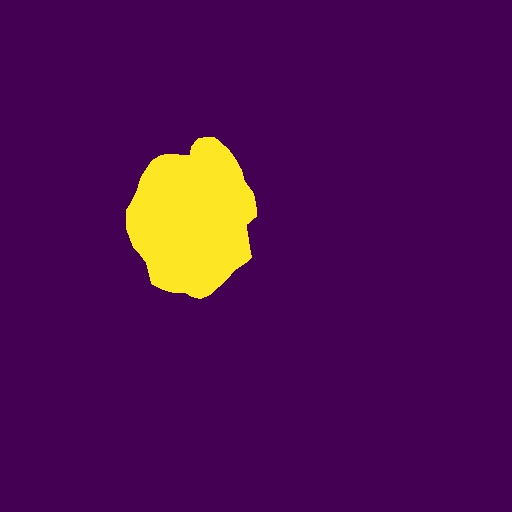Gliomia_tumour: (126, 137, 257, 299)
